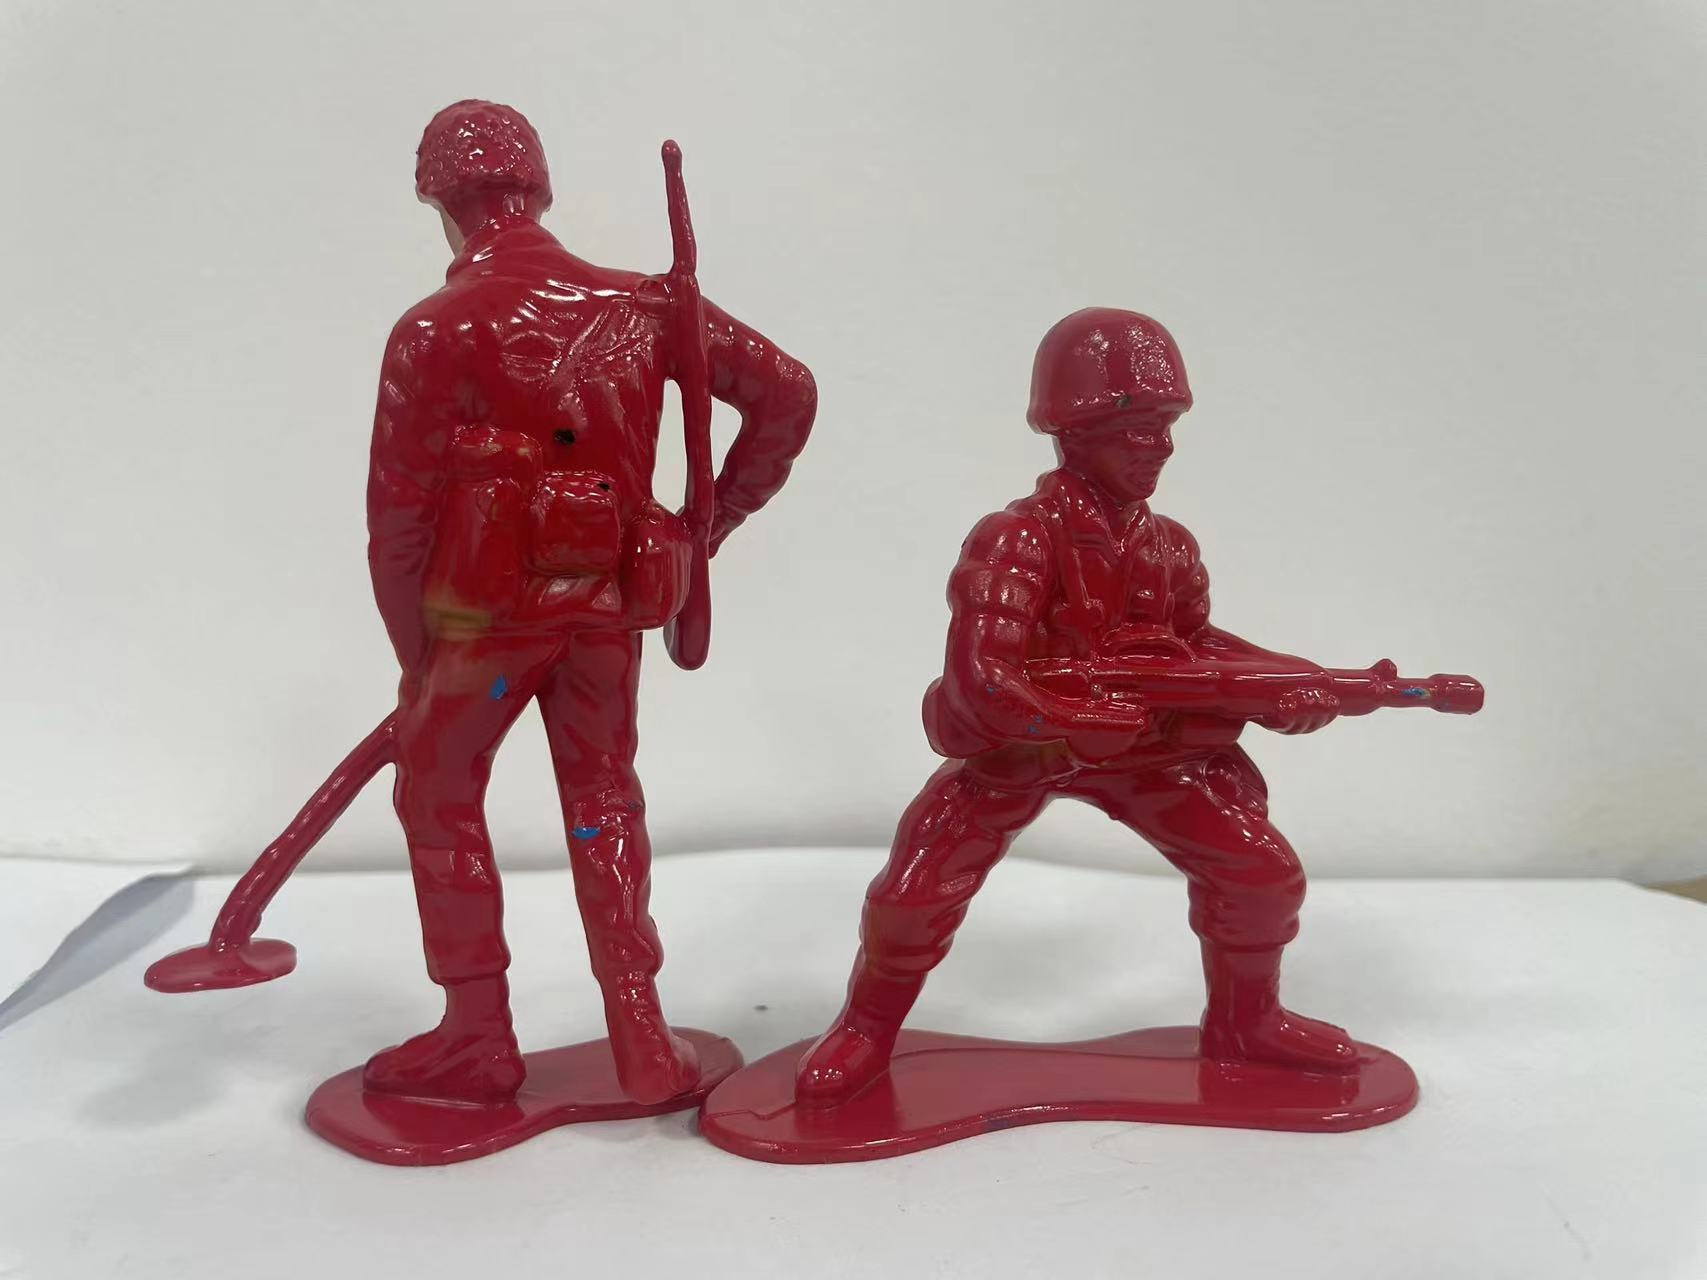red: (181, 73, 821, 1176), (792, 281, 1516, 1228)
